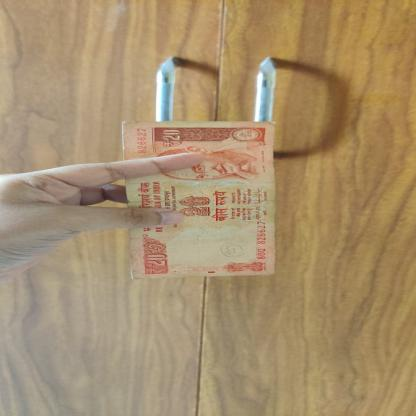Old20Front: (122, 121, 276, 279)
